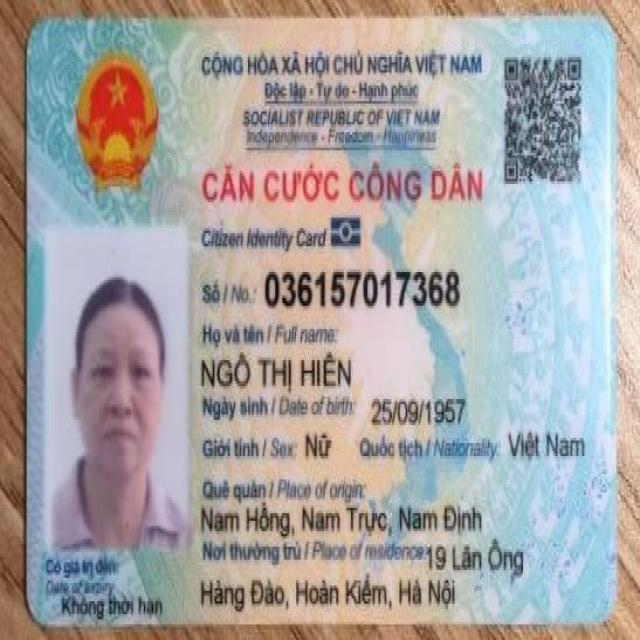current_place: (195, 566, 457, 616), (424, 537, 526, 581)
dob: (370, 397, 467, 433)
expire_date: (60, 590, 165, 618)
gender: (301, 419, 332, 464)
id: (262, 267, 462, 307)
name: (198, 345, 354, 396)
nationality: (505, 424, 590, 464)
origin_place: (198, 499, 485, 538)
qr: (502, 46, 587, 194)
